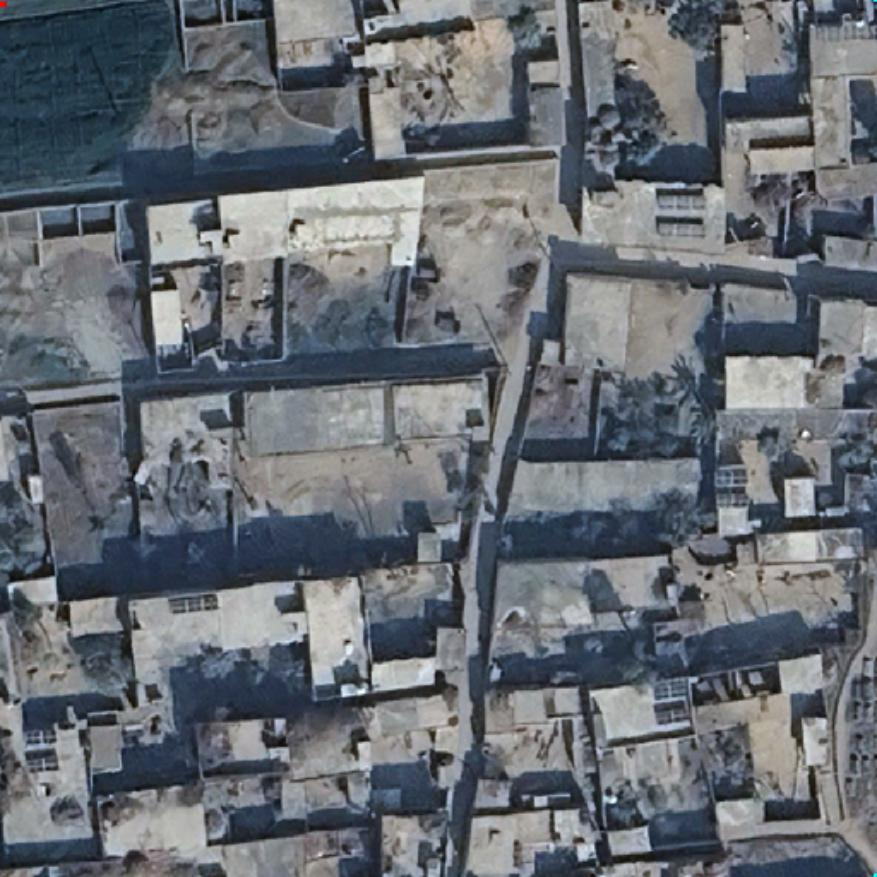Solarpanel: (166, 592, 222, 616), (654, 218, 708, 240), (653, 190, 707, 212), (652, 701, 694, 727), (651, 675, 691, 701), (22, 724, 58, 748), (24, 752, 60, 774), (713, 468, 751, 488), (713, 489, 751, 509)
